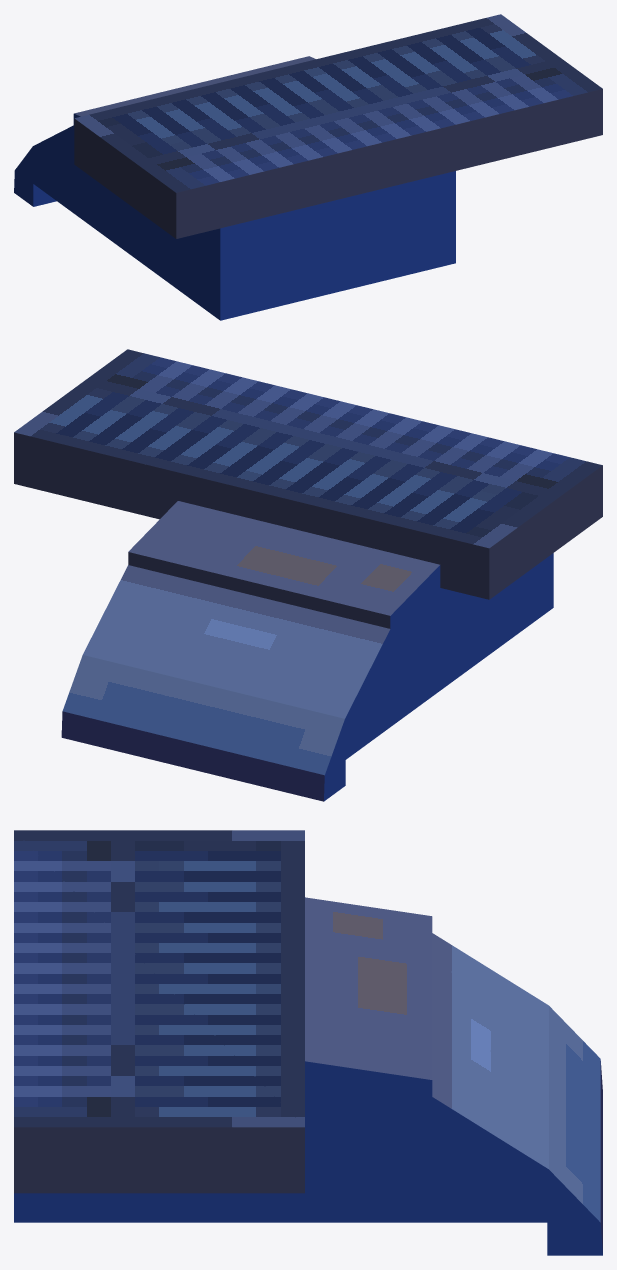
File: df21_dynamic_radiator_lh.obj
The picture shows the model from 3 angles, top to bottom: view 1: azimuth 30°, elevation 25°; view 2: azimuth 150°, elevation 25°; view 3: azimuth 270°, elevation 25°; orthographic projection. The views are drawn at different scales.
Parts seen in each view (by area): view 1: cuboid_selection_selection_selection_selection_selection_selecti; view 2: cuboid_selection_selection_selection_selection_selection_selecti; view 3: cuboid_selection_selection_selection_selection_selection_selecti.
Part boxes in pixels (<box>): cuboid_selection_selection_selection_selection_selection_selecti: <box>14,14,602,320</box>; cuboid_selection_selection_selection_selection_selection_selecti: <box>14,349,602,801</box>; cuboid_selection_selection_selection_selection_selection_selecti: <box>14,830,602,1255</box>.
Bounding box in the file's own units: 1.81 × 0.6562 × 1.52.
